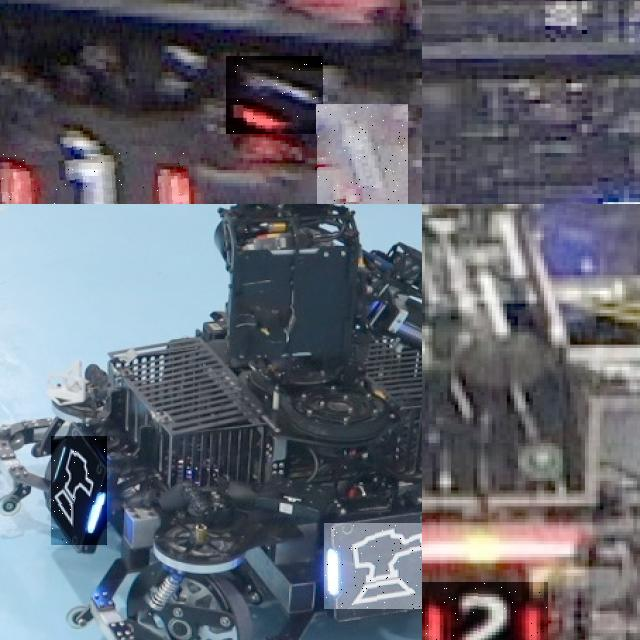Bs: (324, 522, 422, 609), (51, 436, 107, 545)
R1: (0, 145, 189, 204), (316, 104, 408, 204), (226, 56, 324, 134)
R2: (422, 582, 547, 640)
